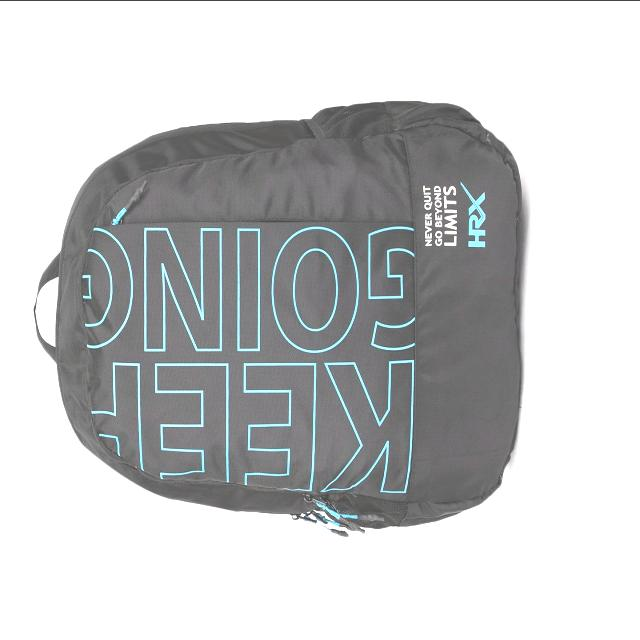backpack: (34, 101, 524, 537)
